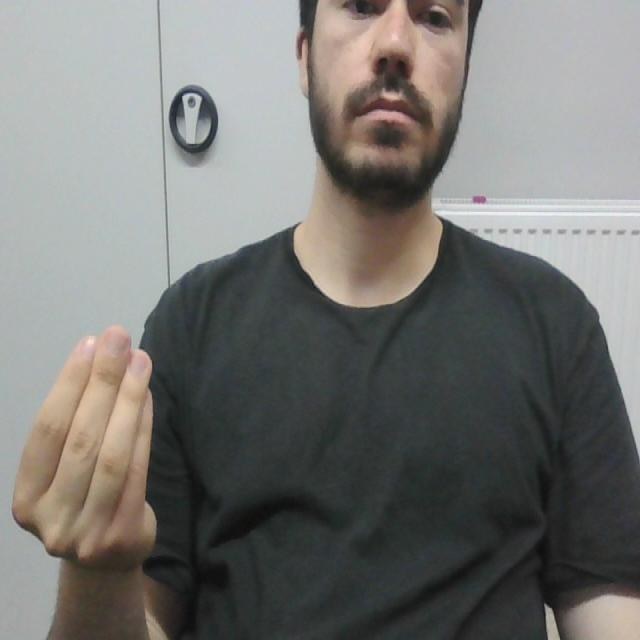iyi: (8, 329, 166, 573)
